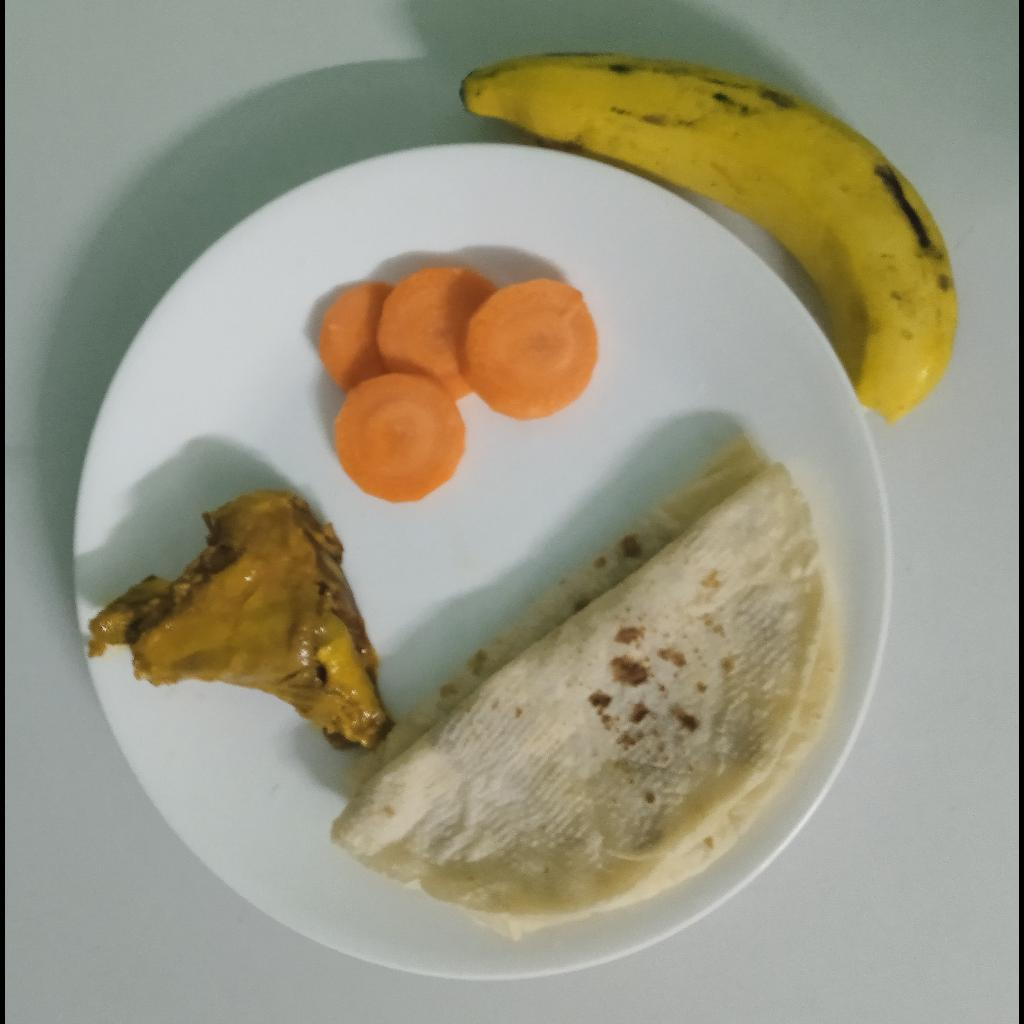banana: (457, 51, 961, 428)
carrot: (313, 267, 602, 505)
chicken: (83, 491, 386, 753)
ruti: (334, 434, 848, 937)
